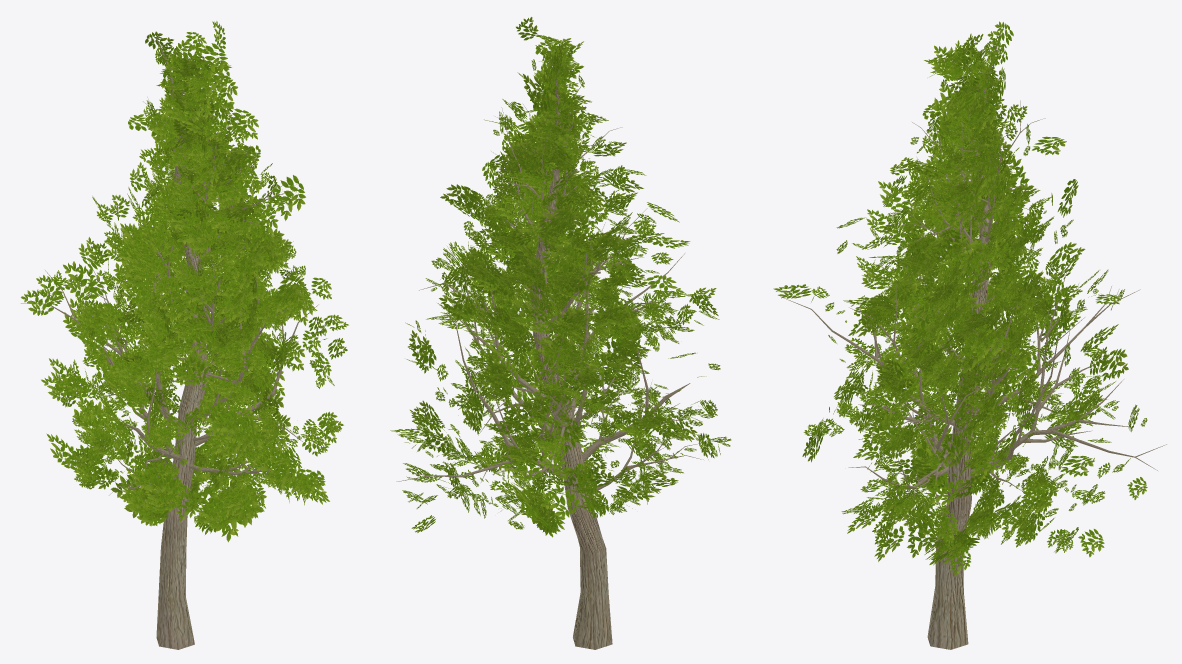
The model's file is Tree_1_2.glb.
3 renders of one model, left to right at view 1: azimuth 30°, elevation 25°; view 2: azimuth 150°, elevation 25°; view 3: azimuth 270°, elevation 25°, orthographic. The views are drawn at different scales.
Parts seen in each view (by area): view 1: Tree_1_V2; view 2: Tree_1_V2; view 3: Tree_1_V2.
Boxes of the visible parts, x1,y1,x2,y2 form: Tree_1_V2: (21,21,348,649); Tree_1_V2: (390,17,731,649); Tree_1_V2: (773,21,1166,649).
Size of the model in its own units: 3 by 6.36 by 3.66.
1 material, 1 textured.
